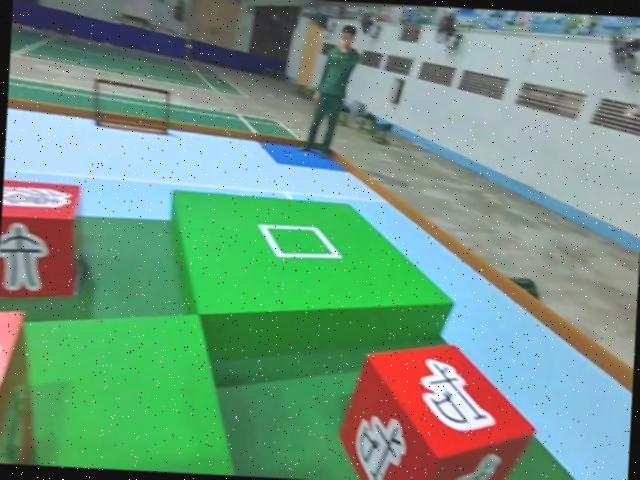R2 Fake: (0, 178, 81, 310)
R2 Real: (336, 339, 540, 480)
